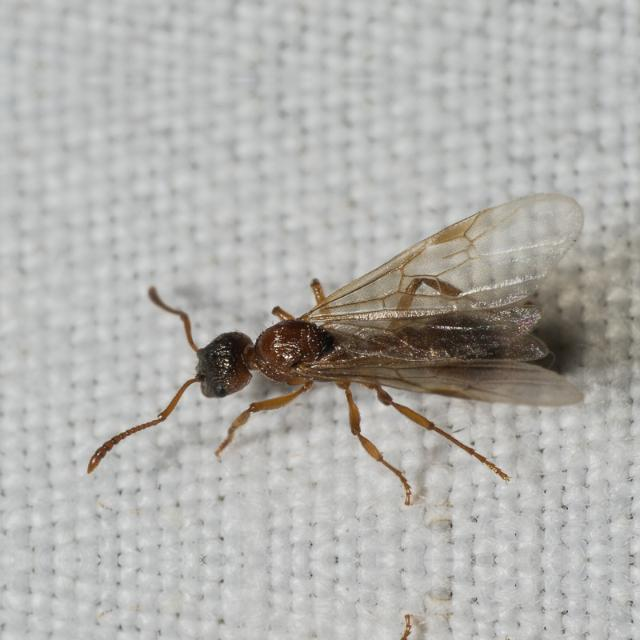Myrmica: (90, 187, 590, 485)
